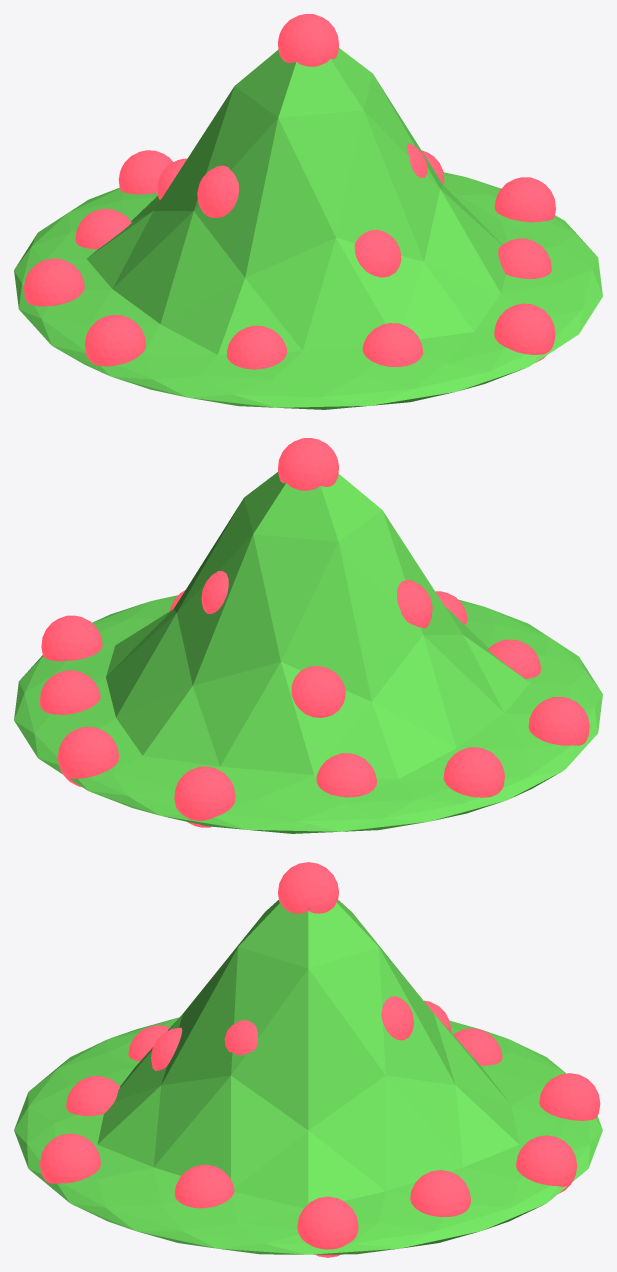
3 views of the same model, one above another, from view 1: azimuth 30°, elevation 25°; view 2: azimuth 150°, elevation 25°; view 3: azimuth 270°, elevation 25° (orthographic).
Parts seen in each view (by area): view 1: Icosphere, Icosphere.001, Icosphere.011, Icosphere.007, Icosphere.017, Icosphere.009, Icosphere.012, Icosphere.013, Icosphere.010, Icosphere.003, Icosphere.015, Icosphere.006 (+1 smaller); view 2: Icosphere, Icosphere.015, Icosphere.001, Icosphere.014, Icosphere.017, Icosphere.007, Icosphere.009, Icosphere.005, Icosphere.008, Icosphere.016, Icosphere.006, Icosphere.013 (+1 smaller); view 3: Icosphere, Icosphere.009, Icosphere.001, Icosphere.014, Icosphere.011, Icosphere.015, Icosphere.008, Icosphere.010, Icosphere.012, Icosphere.016, Icosphere.004, Icosphere.002 (+2 smaller).
Part boxes in pixels (x1,y1,x2,y2): Icosphere: (14, 48, 602, 409); Icosphere.001: (278, 14, 338, 66); Icosphere.011: (494, 303, 555, 362); Icosphere.007: (85, 315, 145, 373); Icosphere.017: (23, 258, 84, 306); Icosphere.009: (494, 177, 555, 222); Icosphere.012: (362, 323, 422, 366); Icosphere.013: (226, 325, 286, 369); Icosphere.010: (498, 238, 551, 278); Icosphere.003: (354, 229, 401, 277); Icosphere.015: (118, 150, 173, 194); Icosphere.006: (197, 165, 238, 218); Icosphere: (14, 472, 602, 833); Icosphere.015: (174, 766, 235, 827); Icosphere.001: (278, 438, 338, 490); Icosphere.014: (57, 727, 118, 786); Icosphere.017: (443, 747, 504, 797); Icosphere.007: (528, 696, 589, 745); Icosphere.009: (41, 615, 102, 661); Icosphere.005: (291, 666, 345, 717); Icosphere.008: (39, 670, 100, 714); Icosphere.016: (316, 753, 376, 797); Icosphere.006: (397, 579, 432, 628); Icosphere.013: (488, 639, 540, 678); Icosphere: (14, 900, 602, 1254); Icosphere.009: (297, 1196, 358, 1257); Icosphere.001: (278, 862, 338, 913); Icosphere.014: (516, 1135, 577, 1193); Icosphere.011: (40, 1133, 100, 1183); Icosphere.015: (539, 1073, 600, 1120); Icosphere.008: (410, 1170, 470, 1216); Icosphere.010: (174, 1164, 234, 1208); Icosphere.012: (66, 1075, 120, 1115); Icosphere.016: (453, 1028, 502, 1065); Icosphere.004: (381, 996, 413, 1040); Icosphere.002: (224, 1020, 258, 1054).
Bounding box in the file's own units: 0.096 × 0.0505 × 0.096.
